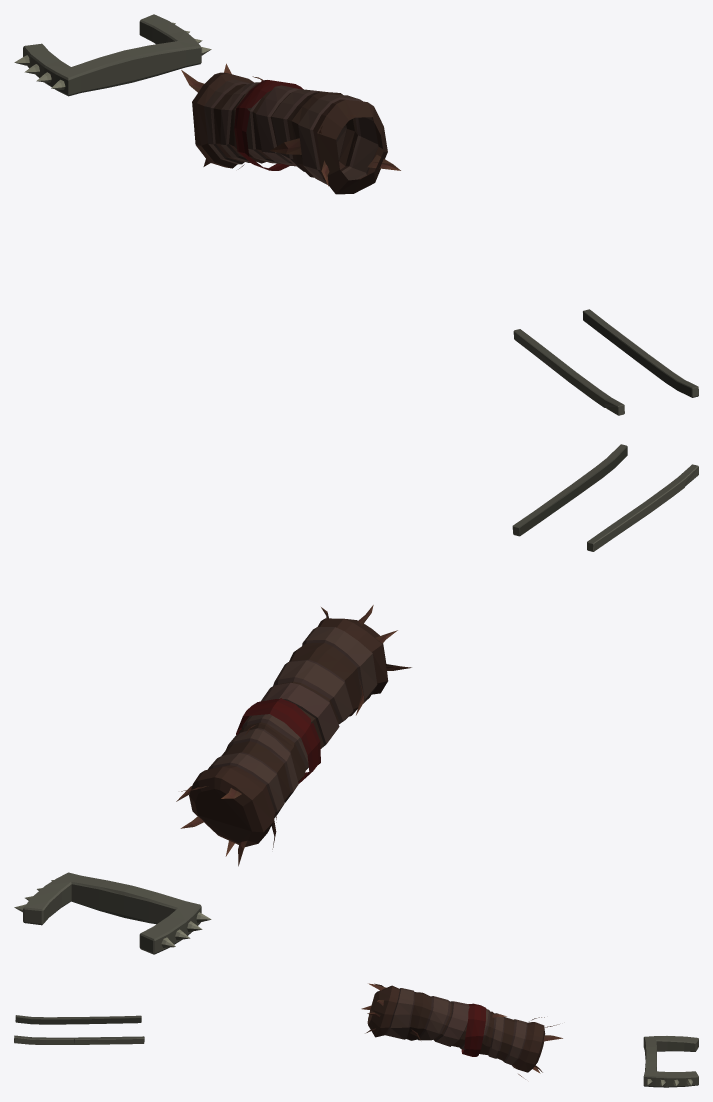
Rendered from repeatingCrossbowVikingHandle.glb.
3 views of the same model, one above another, from view 1: azimuth 30°, elevation 25°; view 2: azimuth 150°, elevation 25°; view 3: azimuth 270°, elevation 25° (orthographic). The views are drawn at different scales.
Visible parts, largest first — view 1: repeatingCrossbowVikingHandle; view 2: repeatingCrossbowVikingHandle; view 3: repeatingCrossbowVikingHandle.
Boxes of the visible parts, bbox=[...] form: repeatingCrossbowVikingHandle: bbox=[14, 14, 698, 415]; repeatingCrossbowVikingHandle: bbox=[14, 444, 698, 954]; repeatingCrossbowVikingHandle: bbox=[14, 983, 698, 1087].
Size of the model in its own units: 0.1656 by 0.1498 by 0.9842.
